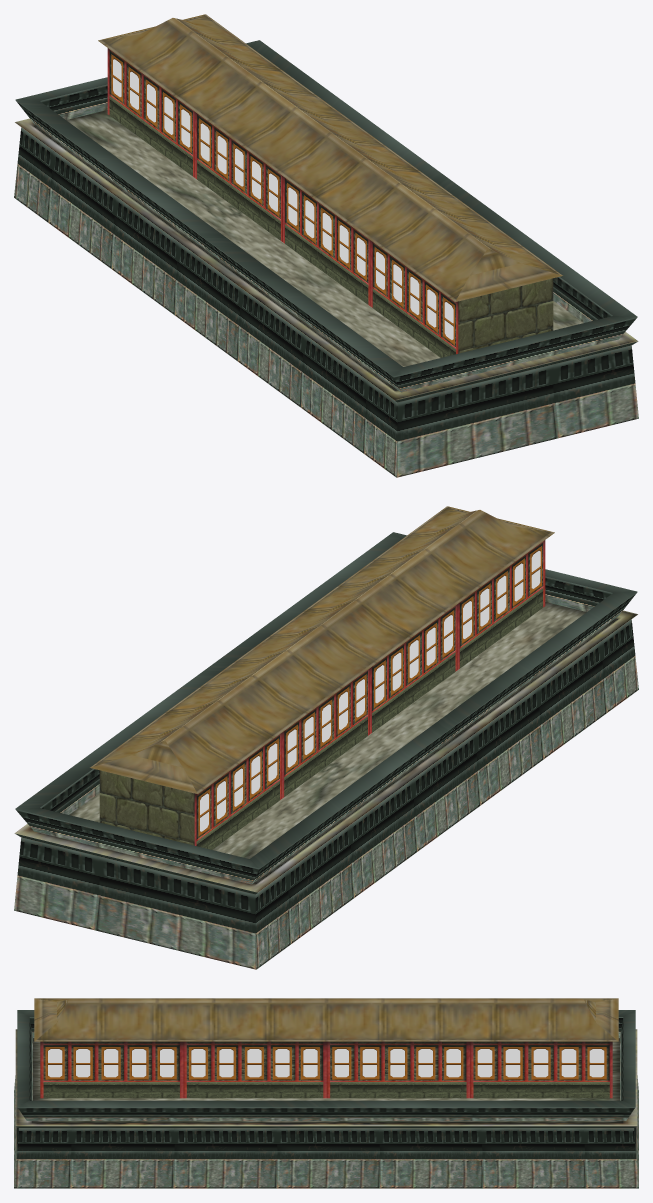
Rendered from l_elitebarracks.glb.
The picture shows the model from 3 angles, top to bottom: view 1: azimuth 30°, elevation 25°; view 2: azimuth 150°, elevation 25°; view 3: azimuth 270°, elevation 25°; orthographic projection. The views are drawn at different scales.
Visible parts, largest first — view 1: barracks, litwin_ebarracks; view 2: barracks, litwin_ebarracks; view 3: barracks, litwin_ebarracks.
Part boxes in pixels (x1,y1,x2,y2): barracks: (14,14,638,477); litwin_ebarracks: (113,59,453,339); barracks: (14,506,638,969); litwin_ebarracks: (200,551,540,831); barracks: (14,998,638,1188); litwin_ebarracks: (48,1049,604,1077).
Bounding box in the file's own units: 15.7 × 10.69 × 42.56.
Materials: 5 (5 with a texture image).
